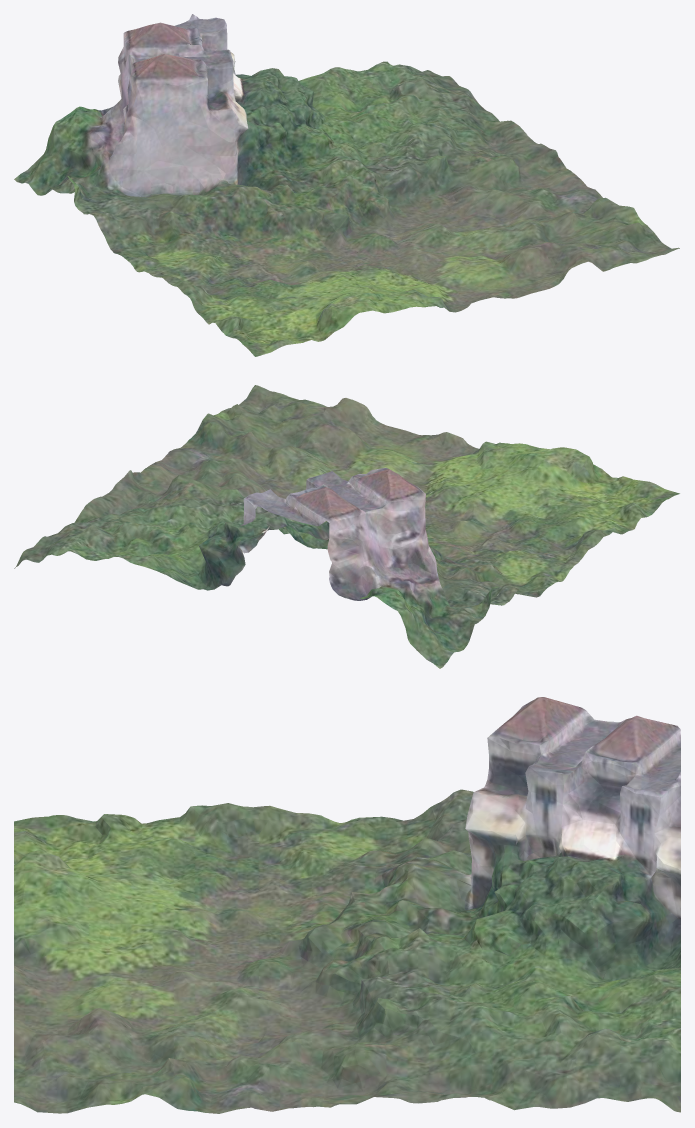
Rendered from Tile_+001_+007_L21_0001000.glb.
3 renders of one model, top to bottom at view 1: azimuth 30°, elevation 25°; view 2: azimuth 150°, elevation 25°; view 3: azimuth 270°, elevation 25°, orthographic. The views are drawn at different scales.
Visible parts, largest first — view 1: rtc; view 2: rtc; view 3: rtc.
Boxes of the visible parts, x1,y1,x2,y2 form: rtc: [14, 14, 679, 356]; rtc: [14, 385, 679, 668]; rtc: [14, 697, 680, 1113].
Size of the model in its own units: 25.63 by 8.42 by 25.13.
1 material, 1 textured.
